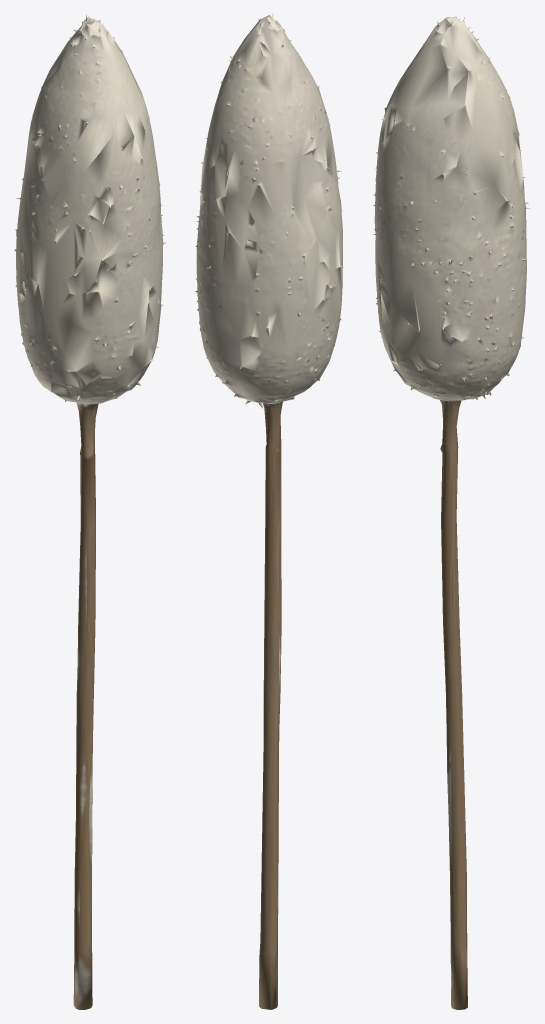
File: fl-green-lagurus.glb
3 renders of one model, left to right at view 1: azimuth 30°, elevation 25°; view 2: azimuth 150°, elevation 25°; view 3: azimuth 270°, elevation 25°, orthographic.
Visible parts, largest first — view 1: node_0; view 2: node_0; view 3: node_0.
Part boxes in pixels (x1,y1,x2,y2): node_0: [14, 14, 166, 1009]; node_0: [195, 14, 343, 1009]; node_0: [373, 15, 530, 1009].
Bounding box in the file's own units: 0.1652 × 1.2 × 0.1724.
Materials: 1 (1 with a texture image).
